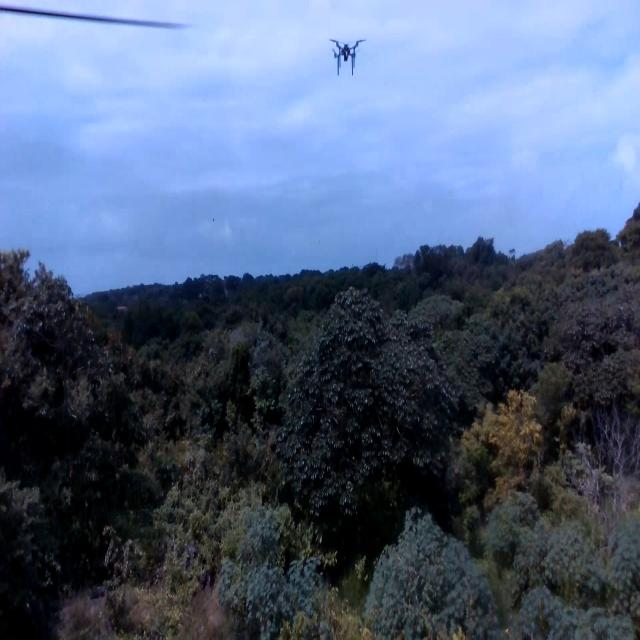-uav-: (324, 26, 368, 78)
